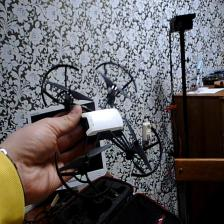drone: (38, 62, 167, 192)
